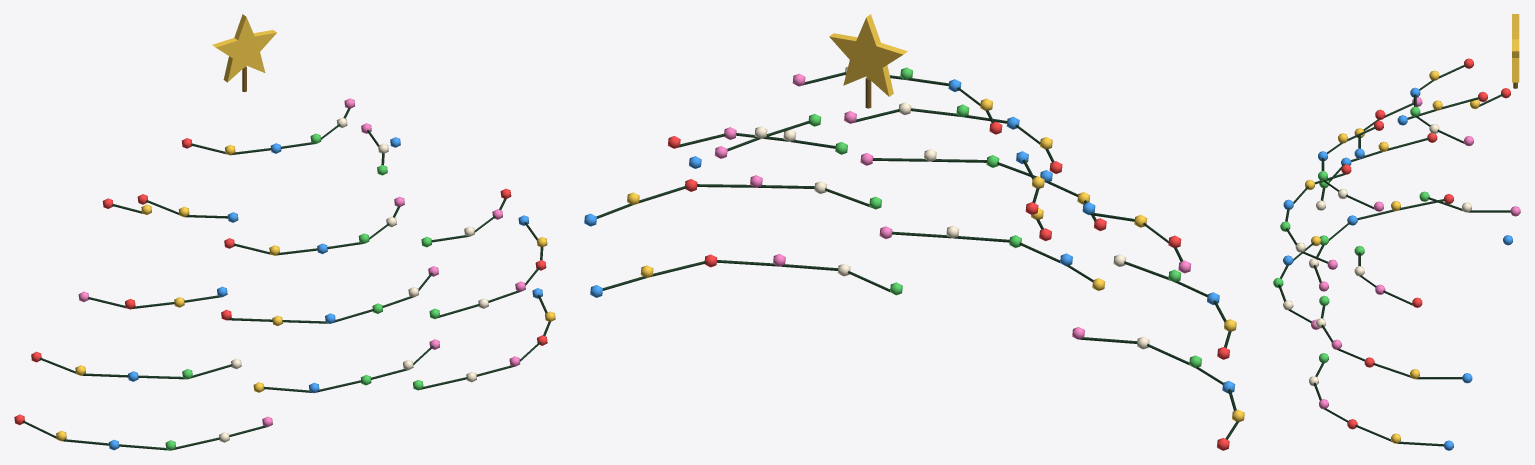
Rendered from grand_lights.glb.
3 views of the same model, side by side, from view 1: azimuth 30°, elevation 25°; view 2: azimuth 150°, elevation 25°; view 3: azimuth 270°, elevation 25° (orthographic). The views are drawn at different scales.
Parts seen in each view (by area): view 1: grand_lights_glow, grand_lights_main; view 2: grand_lights_glow, grand_lights_main; view 3: grand_lights_glow, grand_lights_main.
Part boxes in pixels (x1,y1,x2,y2): grand_lights_glow: [14, 14, 555, 450]; grand_lights_main: [22, 66, 550, 450]; grand_lights_glow: [584, 14, 1244, 450]; grand_lights_main: [596, 72, 1238, 439]; grand_lights_glow: [1273, 14, 1520, 450]; grand_lights_main: [1278, 64, 1517, 446].
Bounding box in the file's own units: 5.54 × 3.23 × 2.31.
